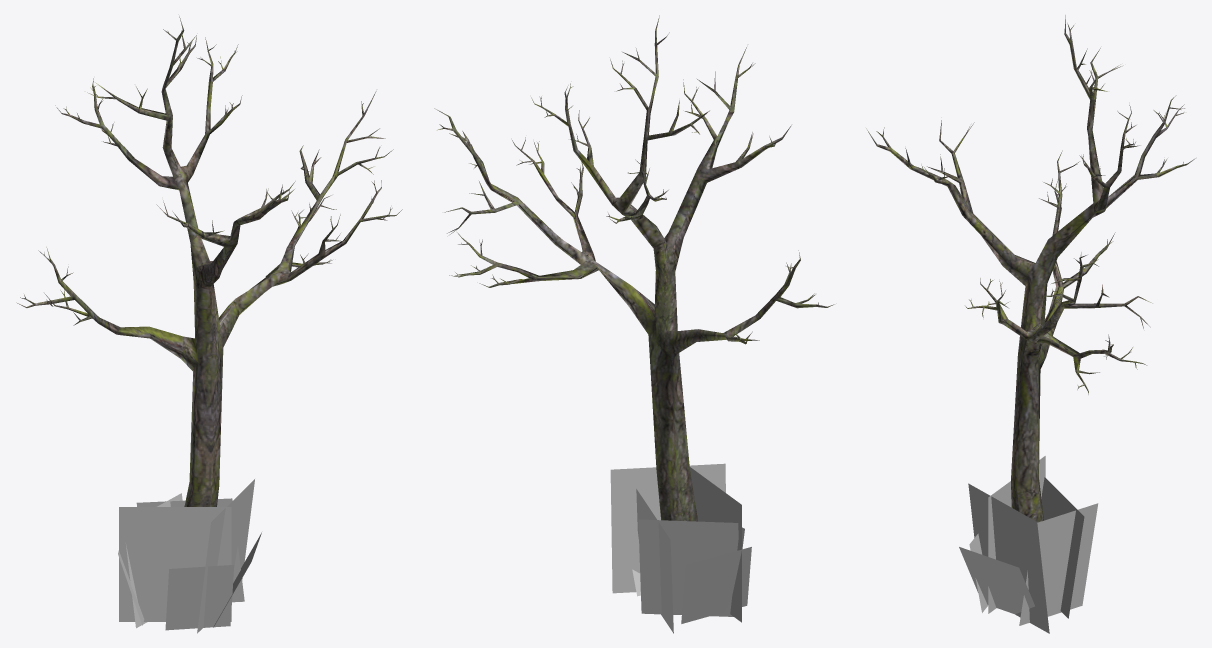
File: Model_Tree_16.fbx
The picture shows the model from 3 angles, left to right: view 1: azimuth 30°, elevation 25°; view 2: azimuth 150°, elevation 25°; view 3: azimuth 270°, elevation 25°; orthographic projection. The views are drawn at different scales.
Parts seen in each view (by area): view 1: Tree_17; view 2: Tree_17; view 3: Tree_17.
Boxes of the visible parts, x1,y1,x2,y2 form: Tree_17: (16,16,402,633); Tree_17: (434,15,834,633); Tree_17: (866,15,1195,633).
Bounding box in the file's own units: 388 × 580 × 290.
